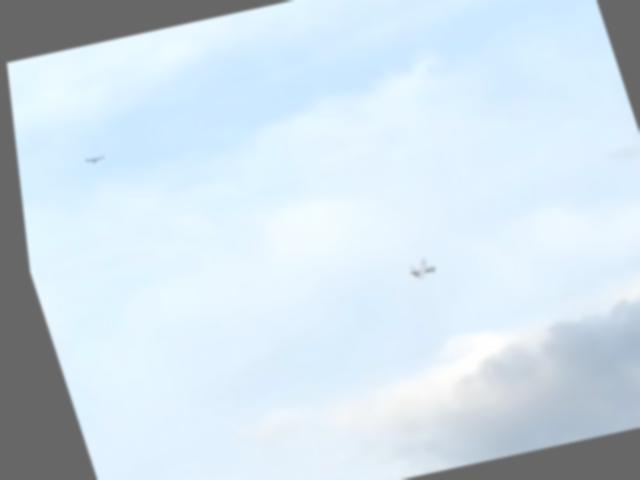uav: (393, 246, 438, 290), (76, 147, 108, 171)
